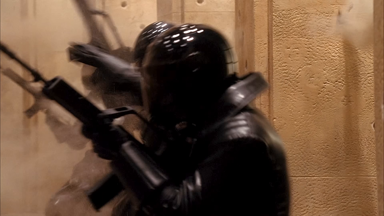firearm: (2, 38, 148, 212), (2, 62, 76, 126)
